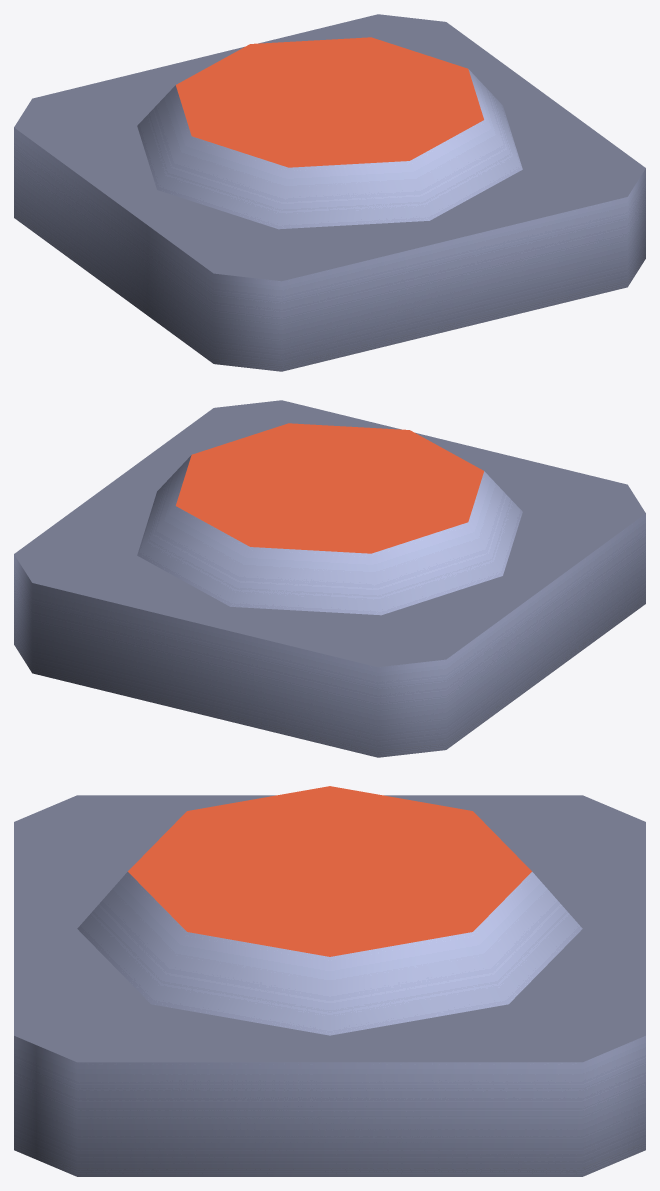
The model's file is button-floor-round.glb.
3 renders of one model, top to bottom at view 1: azimuth 30°, elevation 25°; view 2: azimuth 150°, elevation 25°; view 3: azimuth 270°, elevation 25°, orthographic. The views are drawn at different scales.
Parts seen in each view (by area): view 1: button-floor-round-col, button-col; view 2: button-floor-round-col, button-col; view 3: button-floor-round-col, button-col.
Boxes of the visible parts, x1=… form: button-floor-round-col: x1=14, y1=14, x2=645, y2=371; button-col: x1=137, y1=37, x2=522, y2=229; button-floor-round-col: x1=14, y1=400, x2=645, y2=757; button-col: x1=137, y1=423, x2=522, y2=615; button-floor-round-col: x1=14, y1=795, x2=645, y2=1176; button-col: x1=77, y1=786, x2=582, y2=1035.
Size of the model in its own units: 0.5 by 0.15 by 0.5.
1 material, 1 textured.
